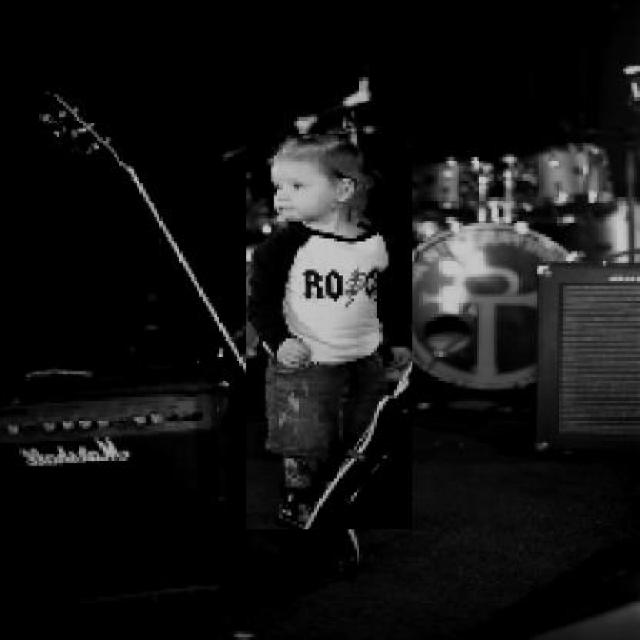child: (245, 134, 412, 532)
